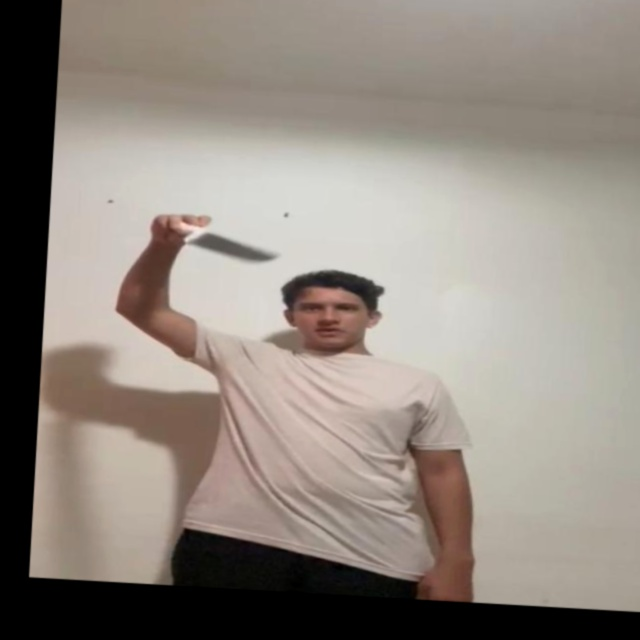Sharp-Object: (186, 229, 277, 259)
